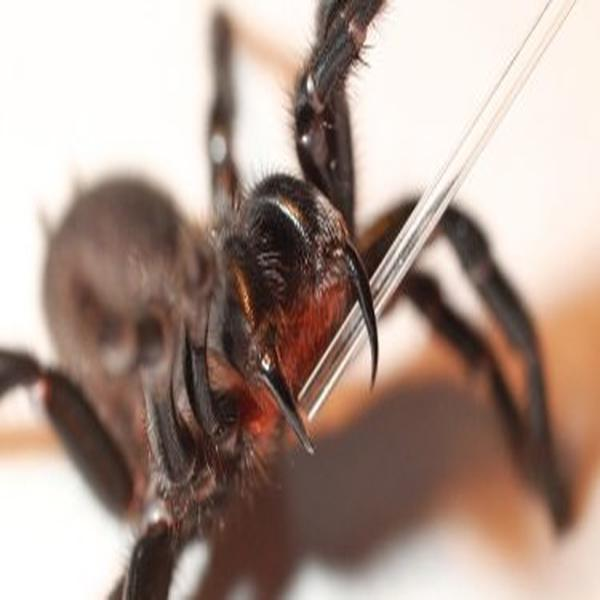Funnel Web Spider: (48, 4, 567, 589)
